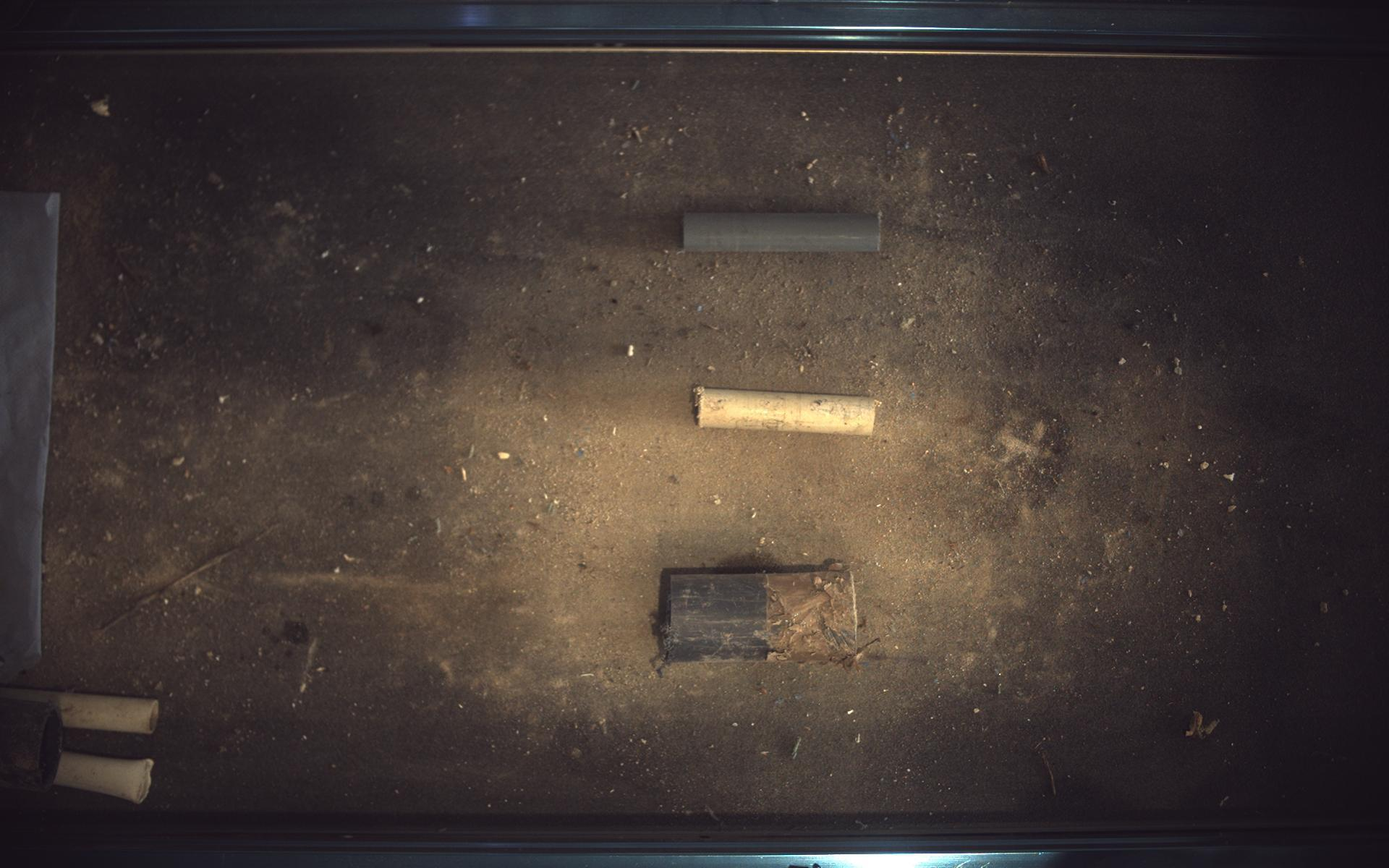pipes: (658, 563, 861, 665), (696, 386, 880, 435), (684, 212, 882, 251), (1, 689, 158, 736), (1, 699, 61, 793), (52, 752, 152, 805)
